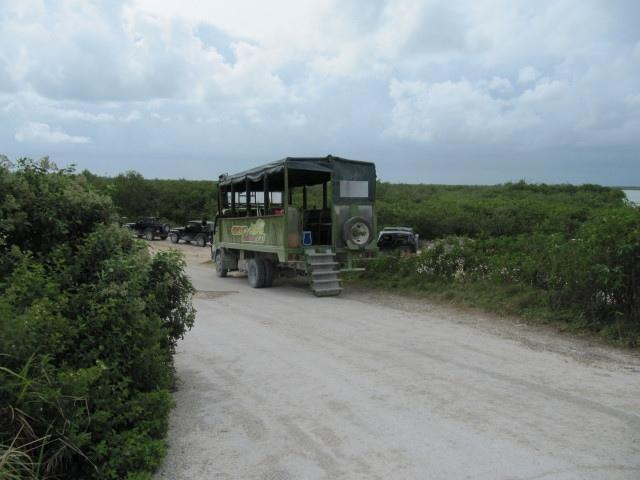bus: (210, 155, 382, 297)
car: (169, 220, 216, 247), (124, 216, 172, 240), (377, 226, 419, 253)
truck: (210, 156, 380, 298)
